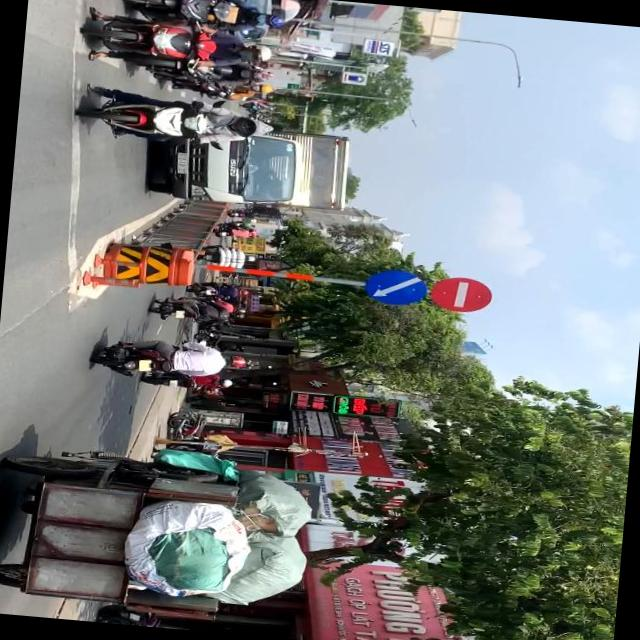P-102: (430, 274, 492, 314)
R-302a: (364, 268, 426, 308)
